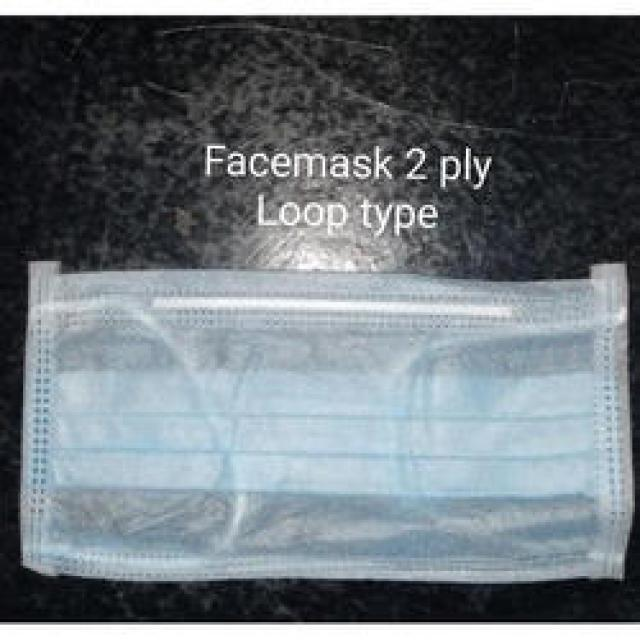face mask: (23, 266, 620, 594)
